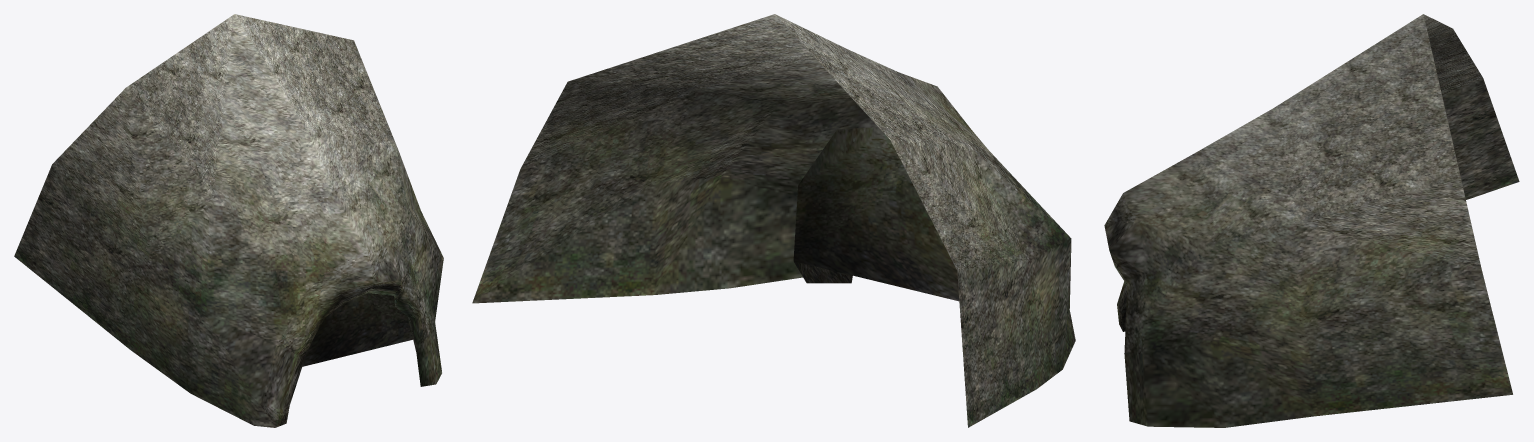
The picture shows the model from 3 angles, left to right: view 1: azimuth 30°, elevation 25°; view 2: azimuth 150°, elevation 25°; view 3: azimuth 270°, elevation 25°; orthographic projection. The views are drawn at different scales.
Visible parts, largest first — view 1: ob-1-01; view 2: ob-1-01; view 3: ob-1-01.
Boxes of the visible parts, x1,y1,x2,y2 form: ob-1-01: [14, 14, 443, 427]; ob-1-01: [472, 14, 1075, 427]; ob-1-01: [1104, 14, 1519, 427].
Bounding box in the file's own units: 17.39 × 13.74 × 14.33.
